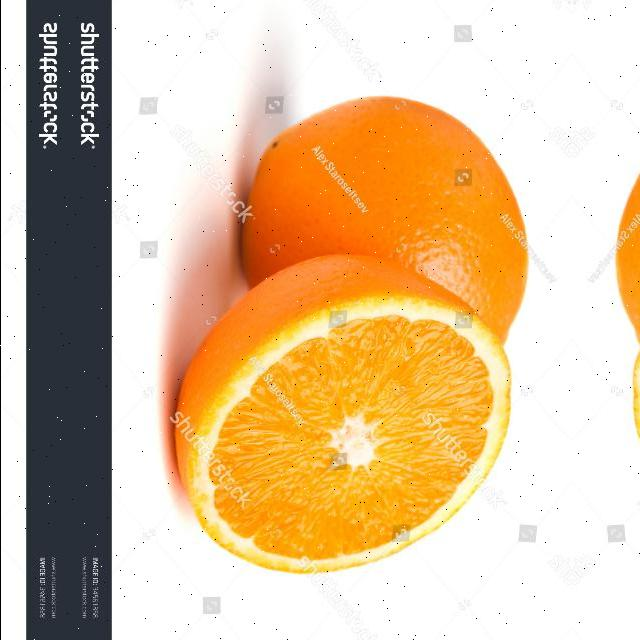Orange: (171, 252, 513, 574), (239, 94, 530, 346)
